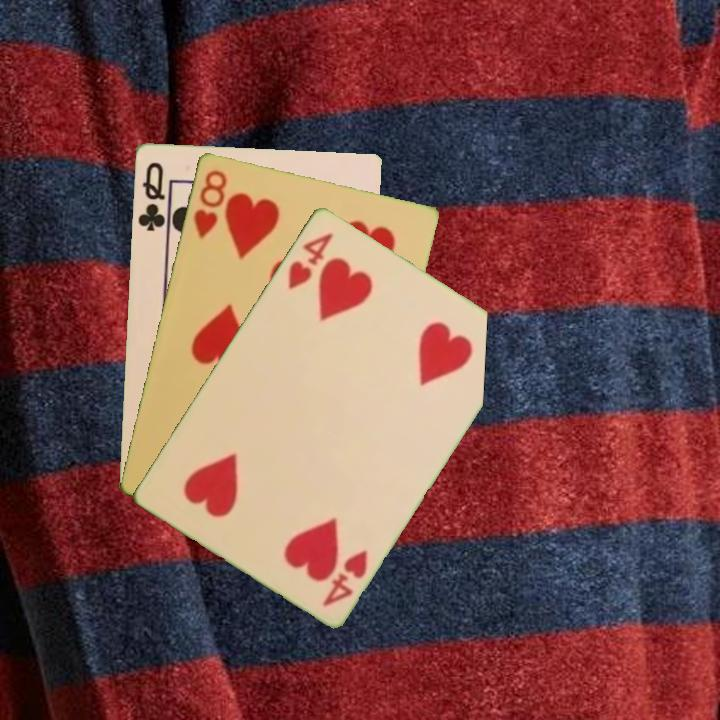4h: (318, 545, 371, 610), (284, 227, 336, 292)
8h: (189, 165, 230, 241)
Qc: (134, 158, 171, 236)
